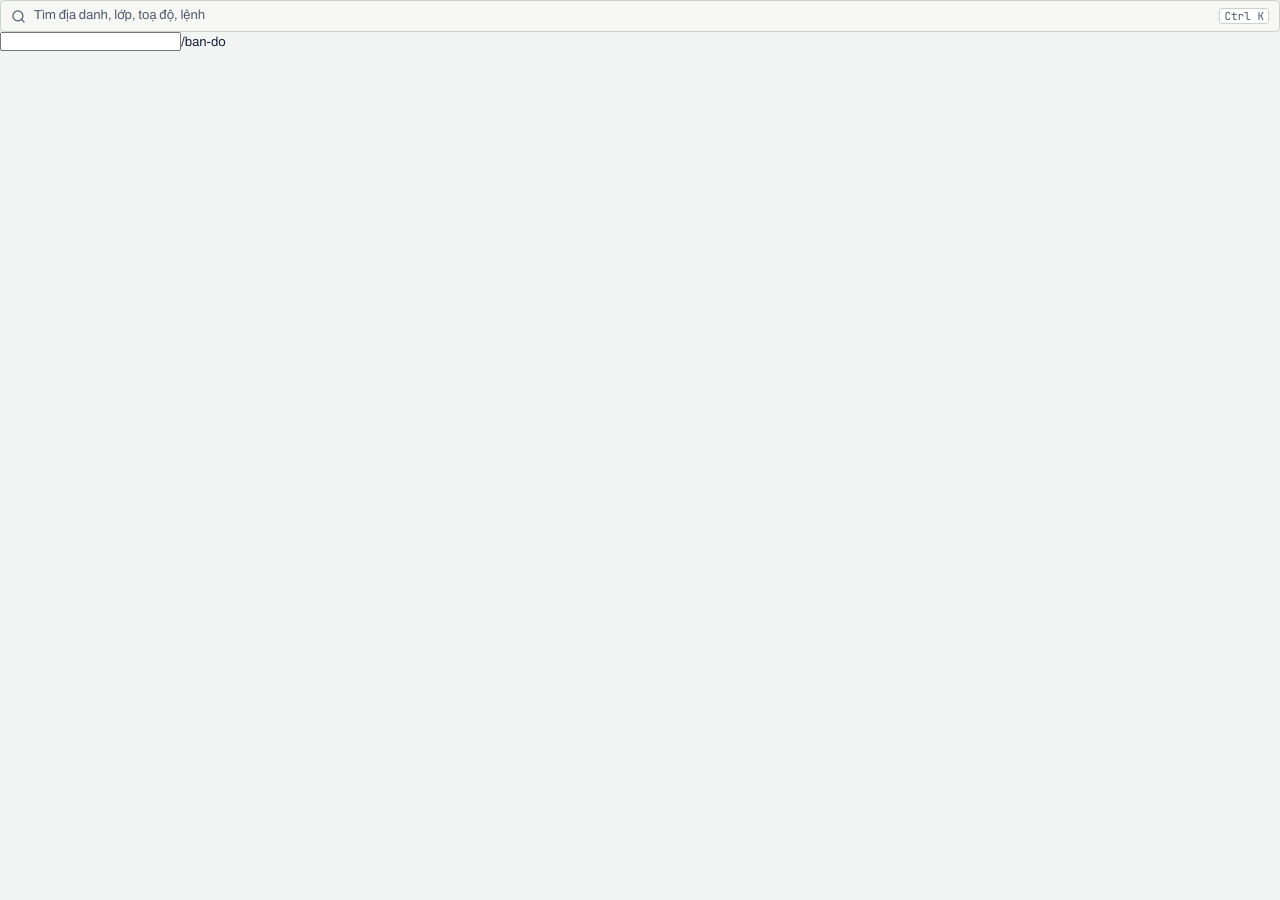
Test: CommandPalette › runs the commands: Tắt hết lớp, In và xuất, Trợ lý
The width and height of the screenshot is (1280, 900).
Later steps or results of the test are not shown.
Click the button "Tìm địa danh, lớp, toạ độ, lệnh Ctrl K" at (120, 15), box [0,0,1279,32]
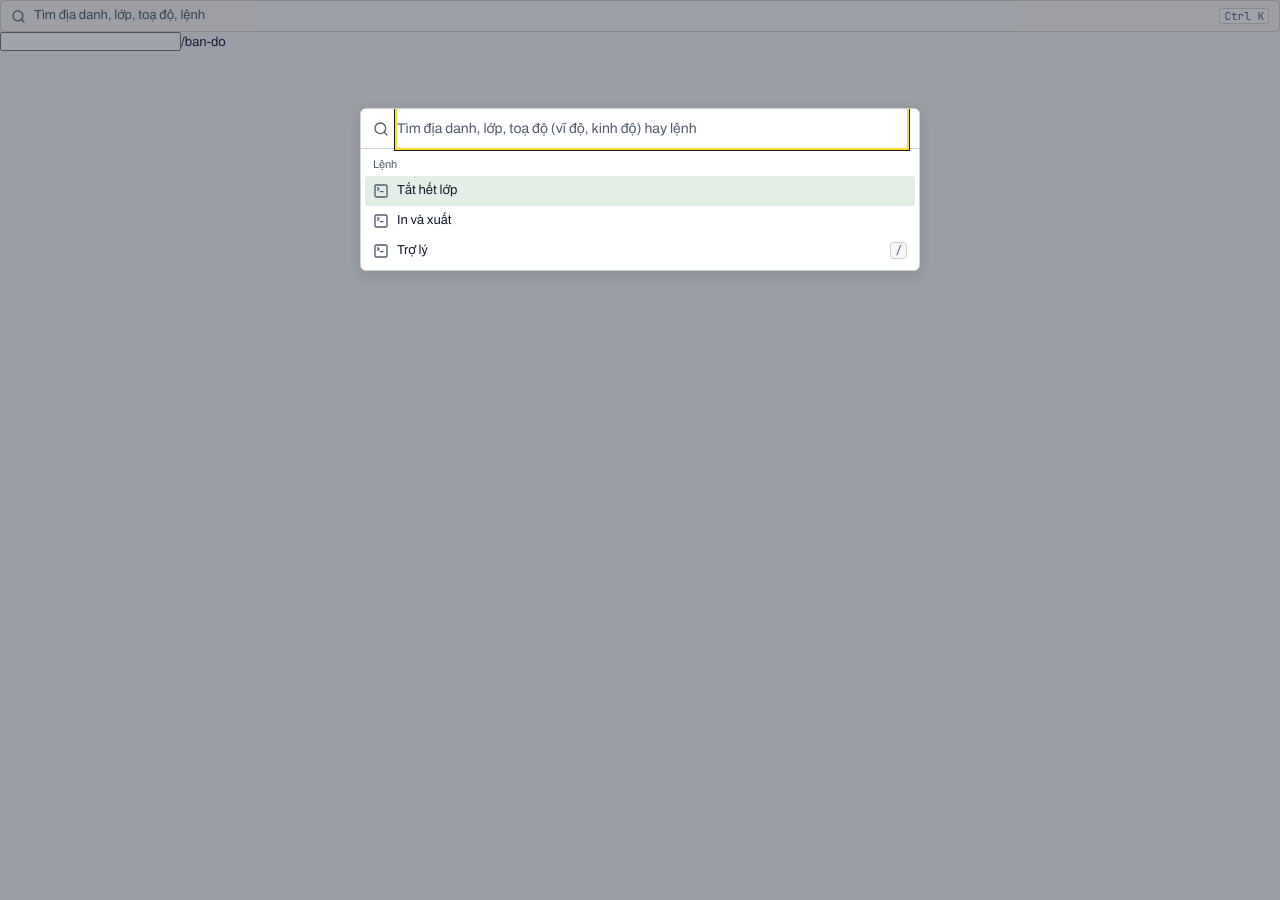
Expected: the options read "Tắt hết lớp", "In và xuất", "Trợ lý/", in this order
Click the option "Tắt hết lớp" at (427, 190), box [365,176,915,206]
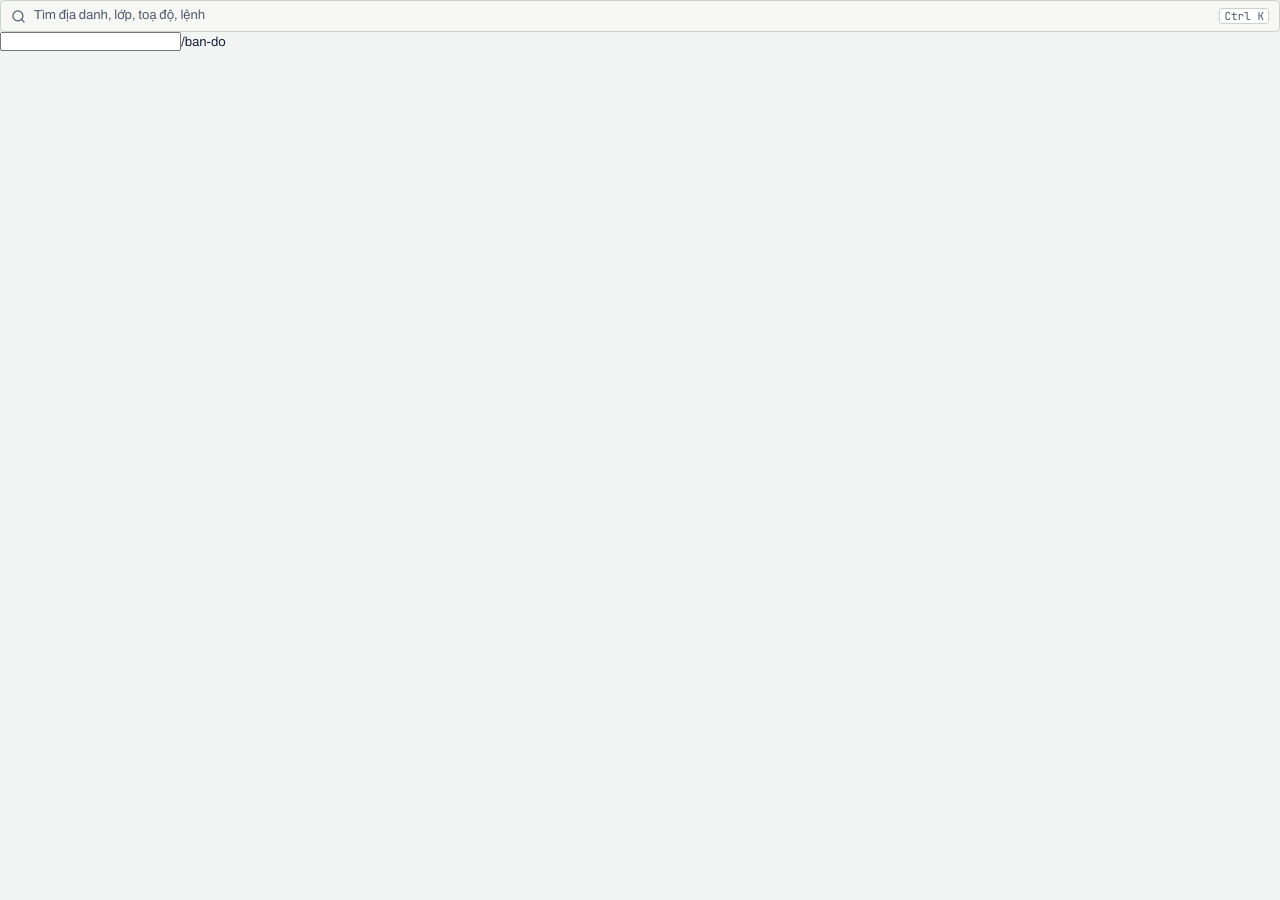
Click the button "Tìm địa danh, lớp, toạ độ, lệnh Ctrl K" at (120, 15), box [0,0,1279,32]
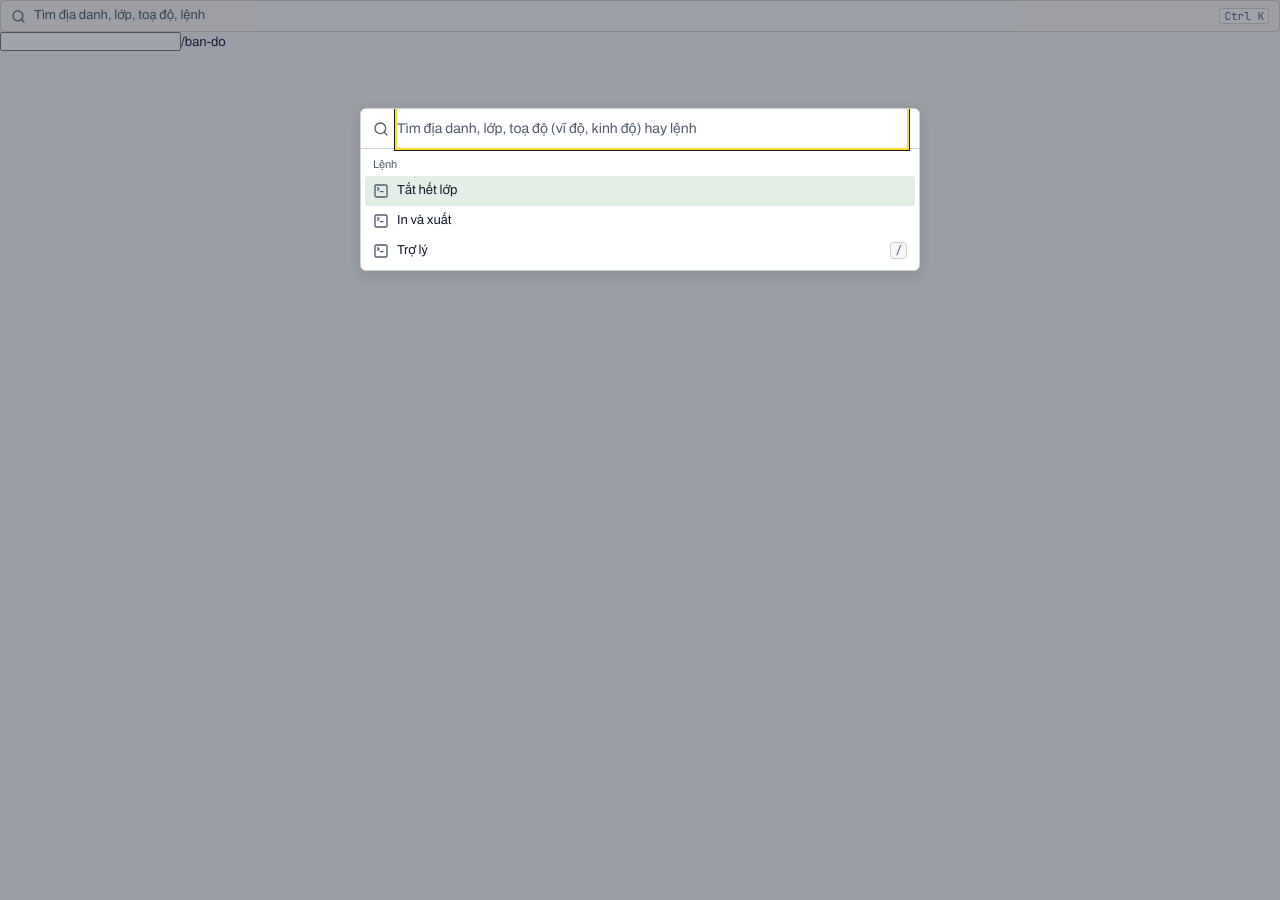
Click the option "In và xuất" at (412, 221), box [373,213,452,229]
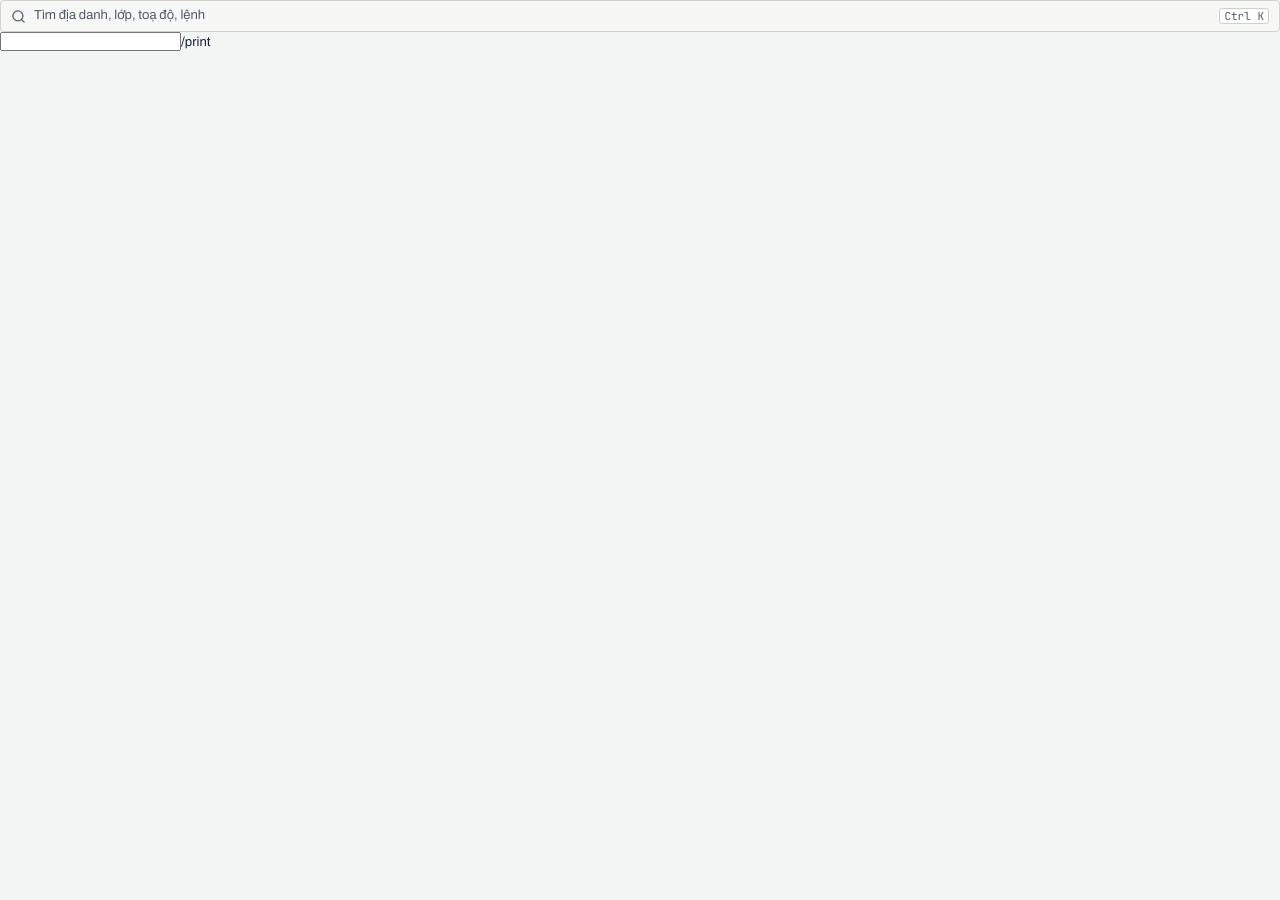
Expected: the text with test id "where" reads "/print", [181,35,211,49]
